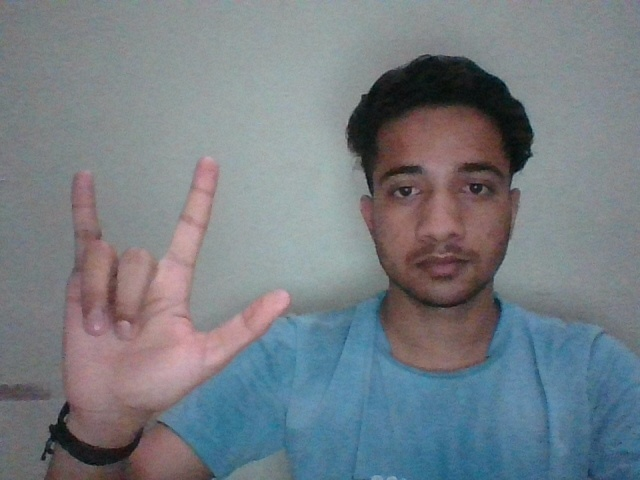iloveyou: (62, 156, 291, 415)
